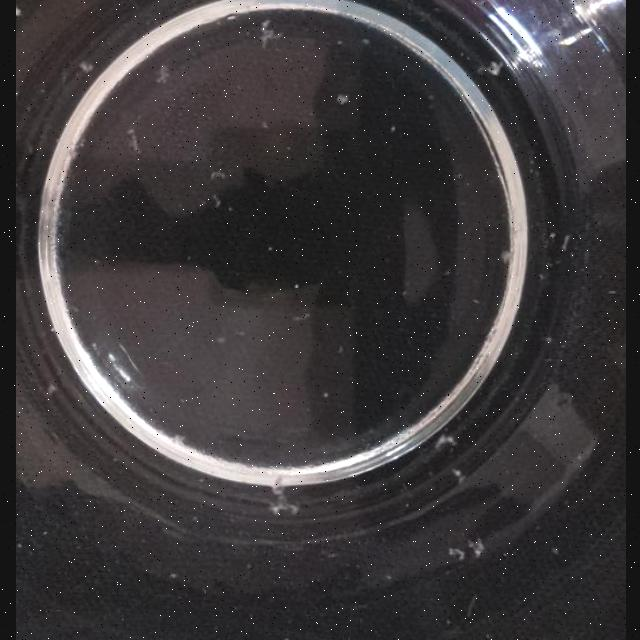Fibre: (257, 18, 281, 50), (272, 499, 298, 517), (432, 434, 453, 452), (480, 60, 500, 76), (153, 65, 169, 85), (468, 538, 484, 556), (450, 468, 466, 484), (446, 547, 464, 561), (208, 170, 226, 182), (292, 312, 310, 322), (560, 234, 570, 250), (500, 250, 510, 264)
microbeads: (210, 195, 222, 208), (334, 94, 348, 105), (216, 336, 227, 344), (260, 121, 270, 129), (361, 38, 371, 46), (442, 268, 452, 276), (383, 574, 392, 582), (544, 335, 552, 343), (550, 548, 558, 556), (538, 273, 546, 281), (548, 231, 556, 239), (168, 573, 178, 579), (226, 15, 236, 21), (15, 6, 22, 14), (336, 345, 342, 353), (388, 126, 396, 132), (335, 39, 343, 45), (292, 283, 300, 289), (322, 392, 328, 398), (444, 620, 450, 626), (266, 245, 272, 251)
